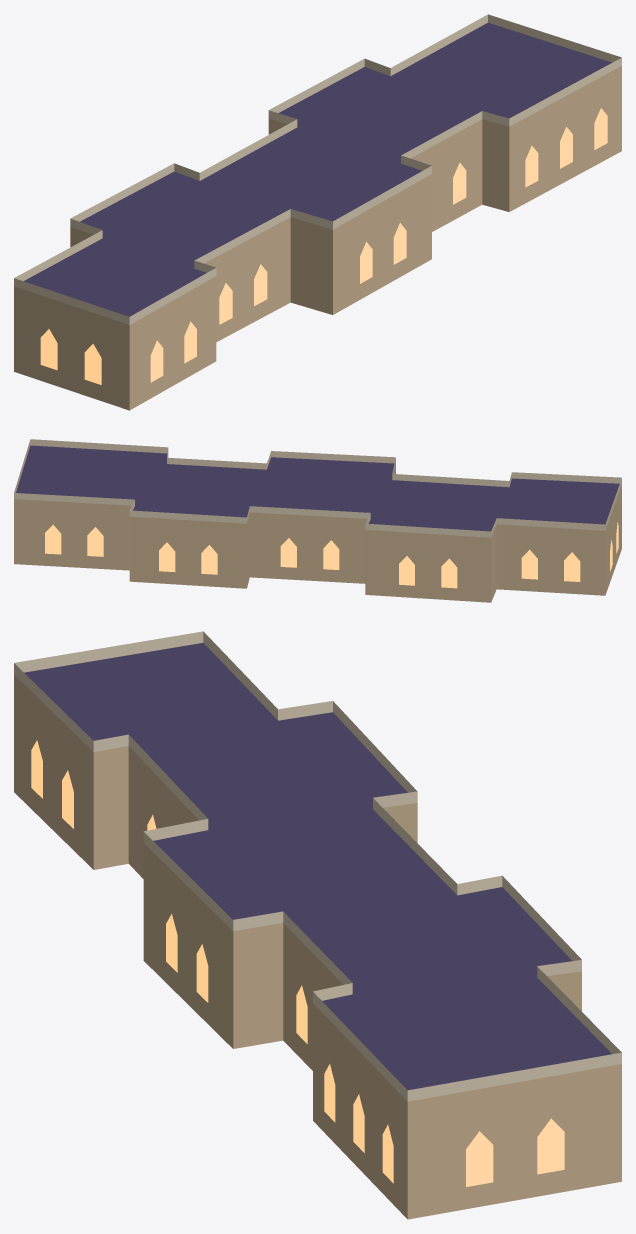
The picture shows the model from 3 angles, top to bottom: view 1: azimuth 30°, elevation 25°; view 2: azimuth 150°, elevation 25°; view 3: azimuth 270°, elevation 25°; orthographic projection. The views are drawn at different scales.
Parts seen in each view (by area): view 1: campus/b-045-0; view 2: campus/b-045-0; view 3: campus/b-045-0.
Boxes of the visible parts, x1,y1,x2,y2 form: campus/b-045-0: [14, 14, 621, 410]; campus/b-045-0: [14, 439, 621, 602]; campus/b-045-0: [14, 631, 621, 1219].
Size of the model in its own units: 47.61 by 6.25 by 26.65.
